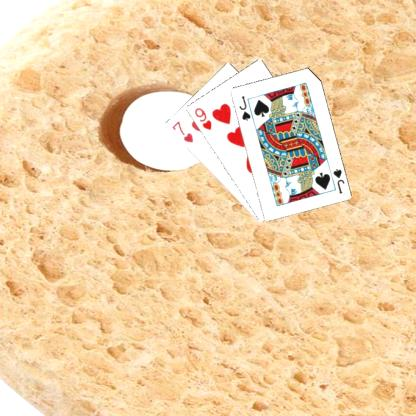7H: (169, 118, 195, 144)
9H: (191, 105, 213, 131)
JS: (236, 93, 252, 122), (330, 166, 345, 194)
